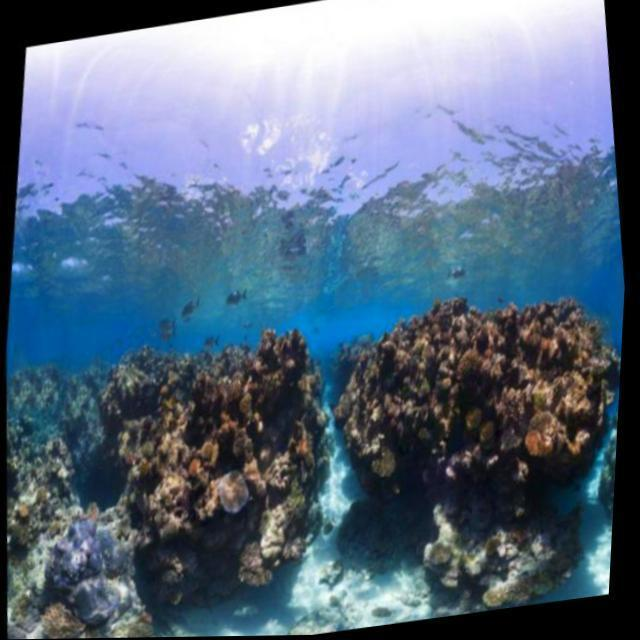Dead Coral: (338, 283, 601, 513), (117, 318, 309, 608)
